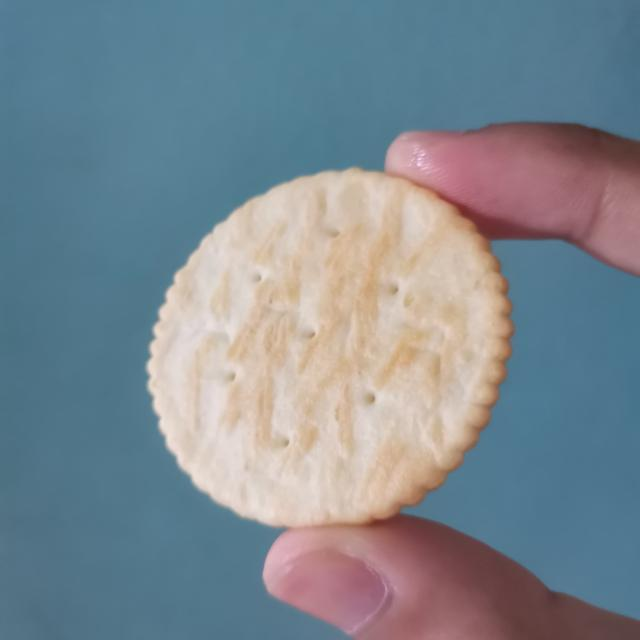Intact: (143, 164, 522, 540)
